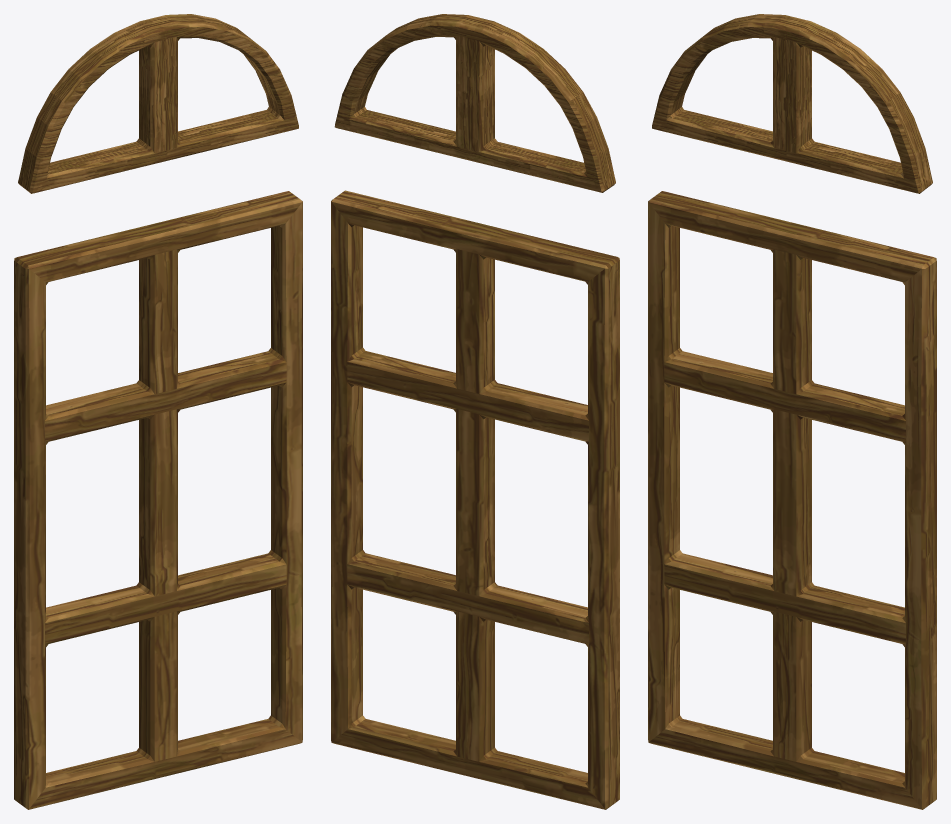
The model's file is Frame is straight 2.fbx.
3 renders of one model, left to right at view 1: azimuth 30°, elevation 25°; view 2: azimuth 150°, elevation 25°; view 3: azimuth 330°, elevation 25°, orthographic.
Parts seen in each view (by area): view 1: Frame is straight 2; view 2: Frame is straight 2; view 3: Frame is straight 2.
Boxes of the visible parts, x1,y1,x2,y2 form: Frame is straight 2: (14, 14, 302, 809); Frame is straight 2: (331, 14, 619, 809); Frame is straight 2: (648, 14, 936, 809).
Size of the model in its own units: 51.89 by 134 by 4.69.
